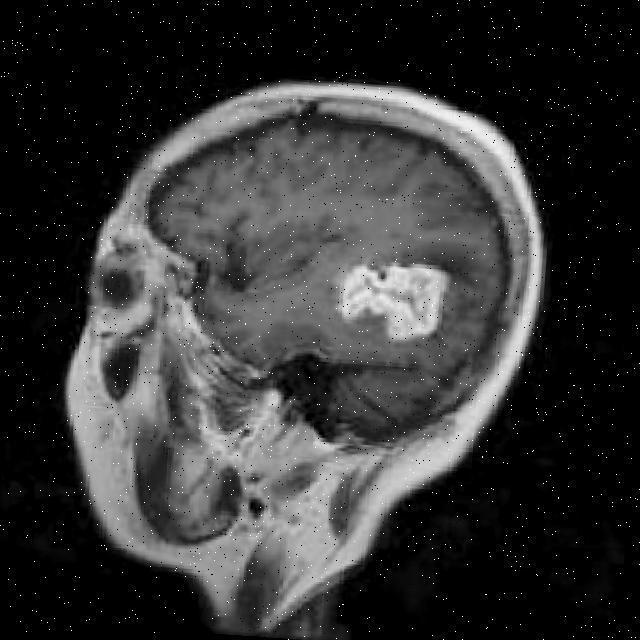EMCI: (287, 221, 564, 428)
